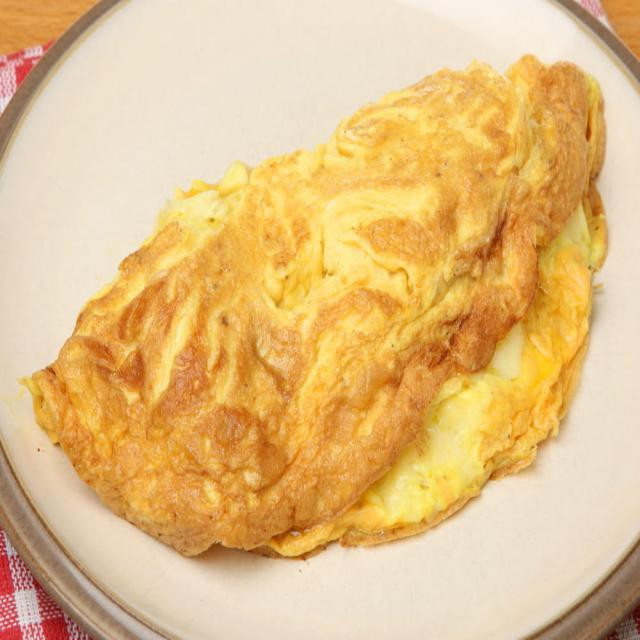telur_ayam_dadar: (19, 52, 609, 560)
